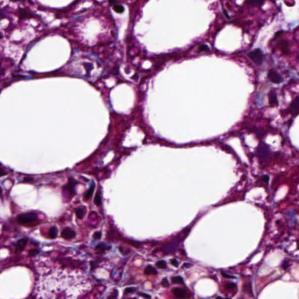inflammation: (6, 205, 100, 261), (245, 43, 299, 114), (138, 250, 192, 299)
